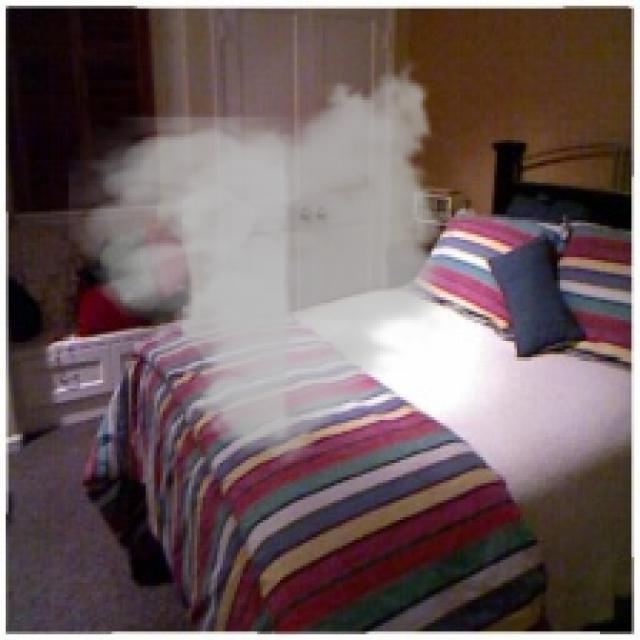Smoke: (69, 52, 458, 477)
